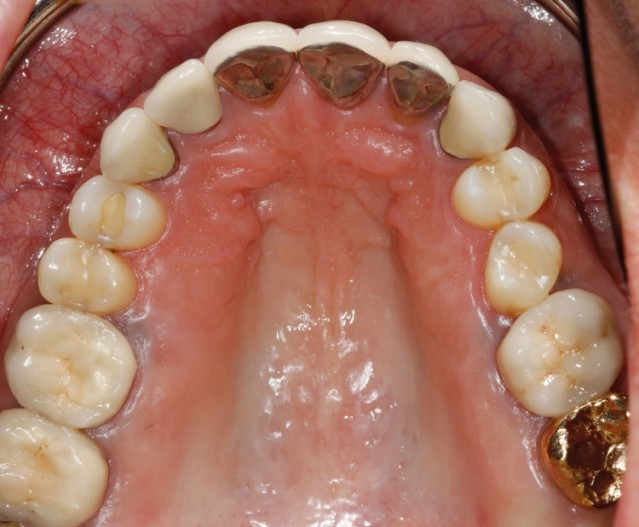UL1BC_healthy: (449, 147, 552, 228)
UL1M_healthy: (493, 294, 606, 419)
UL2BC_healthy: (483, 219, 560, 316)
UL2M_decay: (542, 393, 626, 498)
ULCI_decay: (299, 25, 387, 112)
ULC_healthy: (435, 81, 516, 159)
ULLI_decay: (384, 38, 458, 120)
UR1BC_decay: (74, 173, 170, 252)
UR1M_healthy: (8, 301, 135, 432)
UR2BC_healthy: (39, 236, 142, 316)
UR2M_healthy: (1, 411, 112, 525)
URCI_decay: (210, 19, 297, 109)
URC_healthy: (98, 110, 181, 182)
URLI_healthy: (144, 66, 223, 139)
